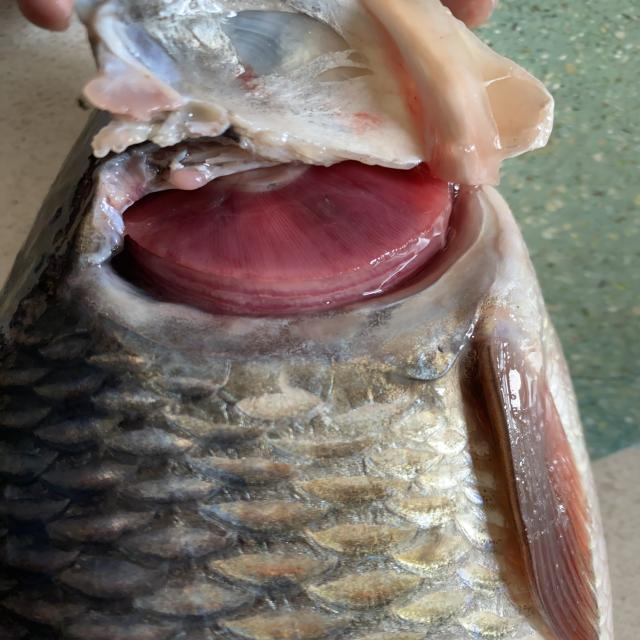Fresh: (80, 129, 506, 343)
